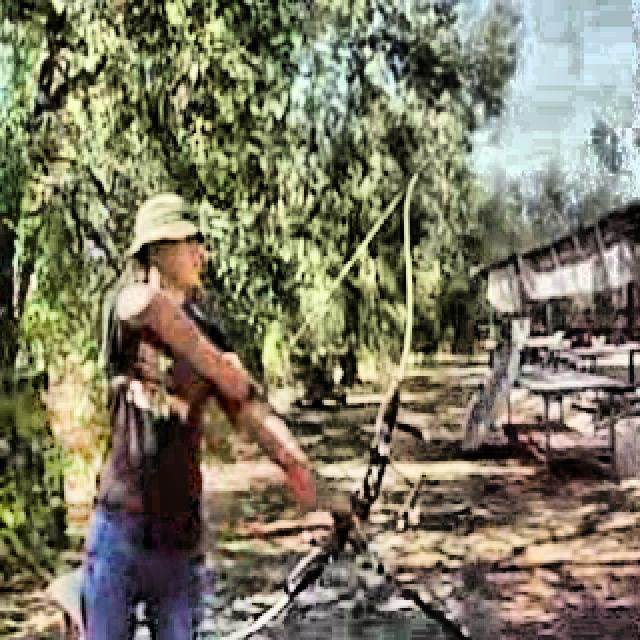I: (68, 197, 379, 640)
